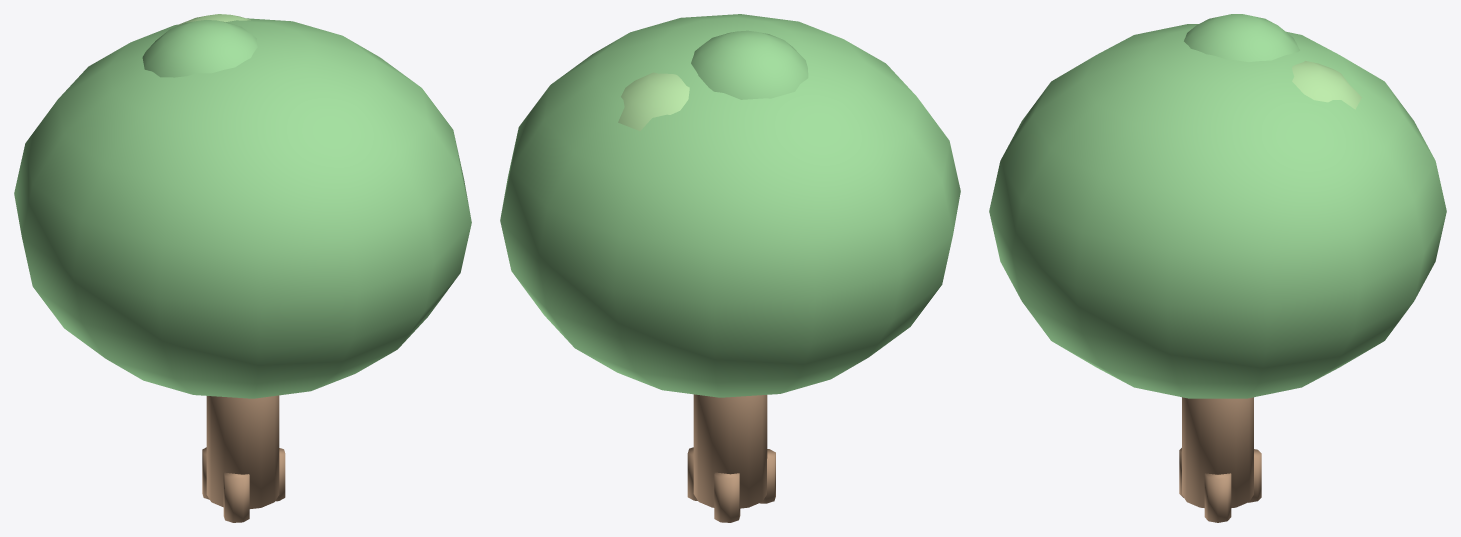
The model's file is cozy_tree_landmark_A.glb.
3 views of the same model, side by side, from view 1: azimuth 30°, elevation 25°; view 2: azimuth 150°, elevation 25°; view 3: azimuth 270°, elevation 25° (orthographic).
Parts seen in each view (by area): view 1: Canopy, Trunk, Canopy5, Root2; view 2: Canopy, Trunk, Canopy5, Canopy4, Root1; view 3: Canopy, Trunk, Canopy5, Canopy4, Root0.
Part boxes in pixels (left/top/right/bottom): Canopy: left=14, top=18, right=471, bottom=398; Trunk: left=206, top=395, right=279, bottom=508; Canopy5: left=142, top=20, right=257, bottom=77; Root2: left=223, top=472, right=249, bottom=522; Canopy: left=500, top=14, right=960, bottom=397; Trunk: left=693, top=394, right=767, bottom=508; Canopy5: left=691, top=30, right=808, bottom=99; Canopy4: left=618, top=72, right=689, bottom=130; Root1: left=714, top=472, right=740, bottom=522; Canopy: left=989, top=24, right=1446, bottom=398; Trunk: left=1182, top=397, right=1253, bottom=507; Canopy5: left=1184, top=14, right=1299, bottom=61; Canopy4: left=1292, top=61, right=1361, bottom=109; Root0: left=1204, top=473, right=1231, bottom=522.
Bounding box in the file's own units: 1.86 × 2.16 × 1.9.
